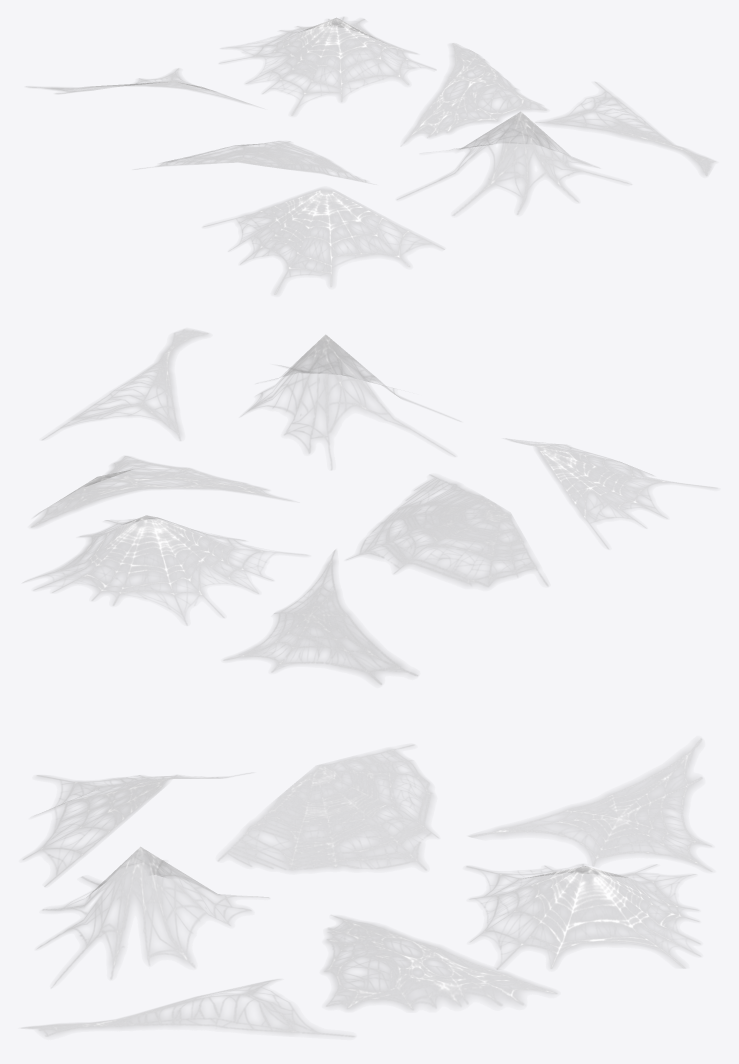
Rendered from cobwebs.glb.
The picture shows the model from 3 angles, top to bottom: view 1: azimuth 30°, elevation 25°; view 2: azimuth 150°, elevation 25°; view 3: azimuth 270°, elevation 25°; orthographic projection. The views are drawn at different scales.
Parts seen in each view (by area): view 1: cobweb.003_cobwebs_0, cobweb.006_cobwebs_0, cobweb.005_cobwebs_0, cobweb.001_cobwebs_0, cobweb.002_cobwebs_0, cobweb.004_cobwebs_0, cobweb.007_cobwebs_0; view 2: cobweb.006_cobwebs_0, cobweb.002_cobwebs_0, cobweb.007_cobwebs_0, cobweb.001_cobwebs_0, cobweb.003_cobwebs_0, cobweb.005_cobwebs_0, cobweb.004_cobwebs_0; view 3: cobweb.002_cobwebs_0, cobweb.006_cobwebs_0, cobweb.005_cobwebs_0, cobweb.007_cobwebs_0, cobweb.001_cobwebs_0, cobweb.003_cobwebs_0, cobweb.004_cobwebs_0.
Boxes of the visible parts, x1,y1,x2,y2 form: cobweb.003_cobwebs_0: (203, 188, 444, 294); cobweb.006_cobwebs_0: (219, 17, 435, 115); cobweb.005_cobwebs_0: (403, 43, 546, 143); cobweb.001_cobwebs_0: (397, 111, 628, 215); cobweb.002_cobwebs_0: (140, 141, 366, 182); cobweb.004_cobwebs_0: (536, 82, 715, 175); cobweb.007_cobwebs_0: (28, 68, 252, 104); cobweb.006_cobwebs_0: (23, 515, 307, 624); cobweb.002_cobwebs_0: (347, 475, 548, 587); cobweb.007_cobwebs_0: (223, 550, 417, 684); cobweb.001_cobwebs_0: (242, 334, 458, 469); cobweb.003_cobwebs_0: (505, 438, 716, 548); cobweb.005_cobwebs_0: (31, 456, 291, 527); cobweb.004_cobwebs_0: (42, 329, 208, 440); cobweb.002_cobwebs_0: (218, 745, 438, 870); cobweb.006_cobwebs_0: (466, 864, 700, 969); cobweb.005_cobwebs_0: (323, 916, 557, 1010); cobweb.007_cobwebs_0: (469, 739, 711, 871); cobweb.001_cobwebs_0: (37, 846, 268, 985); cobweb.003_cobwebs_0: (23, 773, 249, 886); cobweb.004_cobwebs_0: (23, 979, 354, 1036).
Size of the model in its own units: 4.04 by 0.7605 by 3.97.
1 material, 1 textured.
